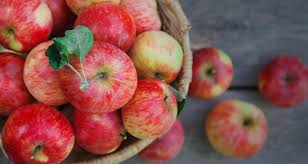apple: (63, 41, 135, 106), (2, 106, 76, 161), (120, 79, 182, 137), (206, 99, 269, 155), (72, 102, 133, 158), (19, 43, 76, 102), (189, 46, 236, 100), (77, 8, 135, 51), (1, 1, 51, 49), (130, 31, 182, 76), (255, 57, 308, 100)
